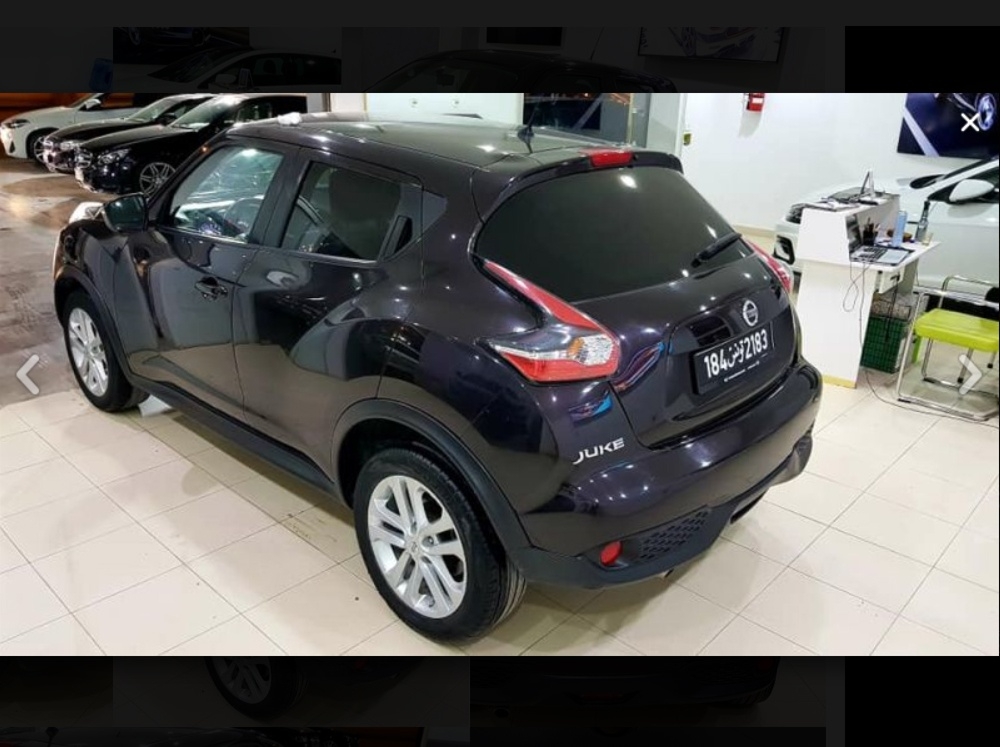LP: (686, 321, 784, 391)
